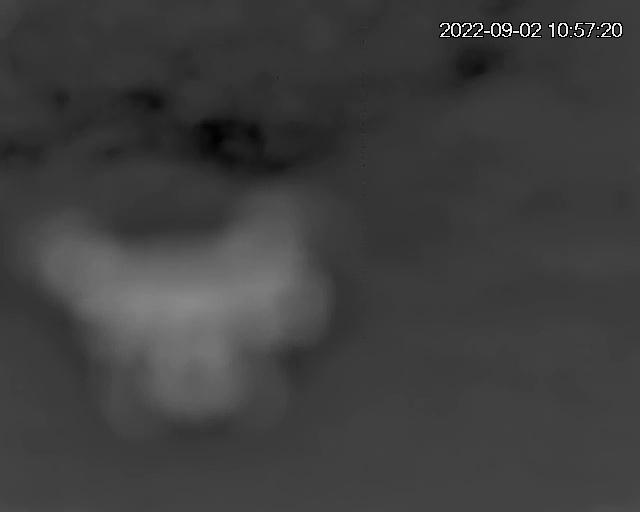DJI-Phantom: (28, 225, 333, 432)
